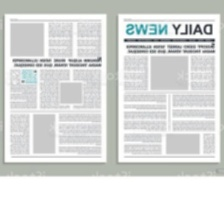news_paper: (2, 12, 109, 164), (116, 13, 221, 164)
